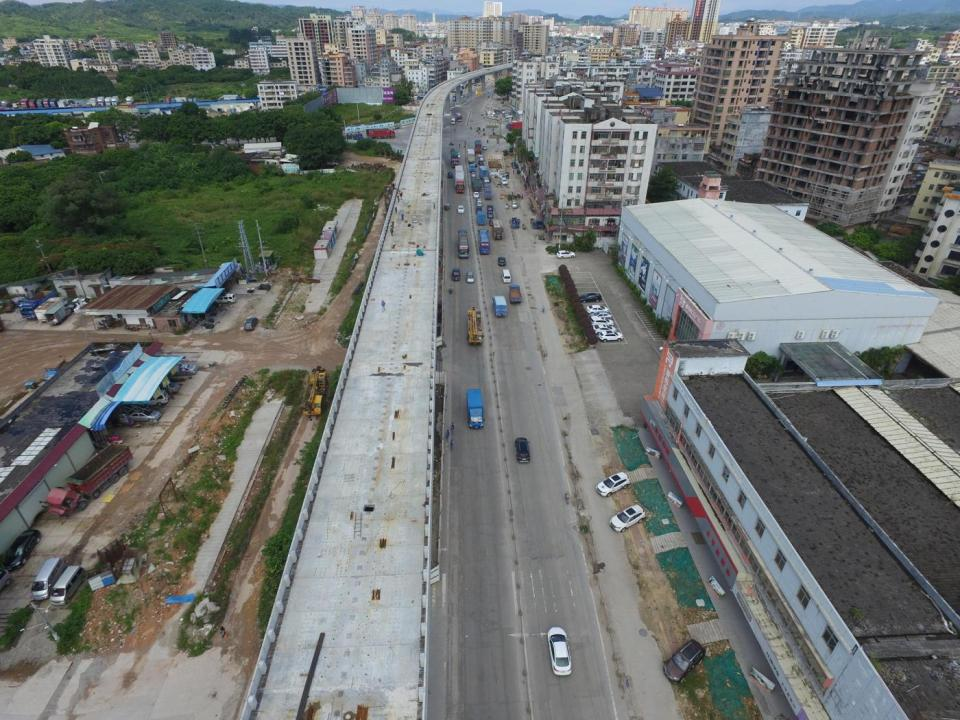bus: (477, 228, 490, 254), (458, 230, 469, 258), (455, 112, 462, 122)
car: (663, 639, 704, 683), (4, 528, 42, 568), (546, 626, 570, 674), (609, 505, 644, 532), (596, 473, 630, 497), (128, 408, 160, 421), (515, 437, 529, 463), (169, 364, 196, 376), (154, 382, 177, 394), (599, 331, 624, 342), (592, 324, 616, 335), (591, 317, 613, 328), (588, 312, 612, 322), (580, 293, 602, 303), (586, 304, 608, 313), (244, 318, 258, 330), (557, 250, 575, 259), (452, 268, 460, 281), (498, 256, 506, 267), (466, 271, 474, 282), (457, 205, 465, 213), (475, 198, 482, 206), (501, 173, 509, 180), (500, 178, 508, 184), (487, 211, 493, 219), (447, 170, 453, 178), (476, 207, 482, 215), (472, 191, 478, 198), (487, 204, 493, 210), (511, 162, 517, 168), (471, 172, 475, 178), (456, 153, 460, 158), (483, 146, 487, 150), (450, 150, 454, 154)
truck: (45, 444, 132, 519), (19, 290, 56, 320), (35, 297, 66, 322), (466, 388, 485, 428), (45, 359, 71, 384), (46, 301, 73, 325), (492, 295, 508, 317), (455, 166, 465, 193), (493, 219, 504, 241), (369, 129, 395, 138), (366, 128, 392, 137), (510, 285, 521, 304), (343, 132, 361, 140), (477, 211, 486, 226), (467, 149, 475, 164), (451, 151, 458, 168), (480, 165, 488, 179), (484, 187, 492, 200), (472, 178, 480, 191), (474, 140, 482, 153), (482, 176, 490, 187), (393, 124, 402, 129)
van: (49, 565, 86, 606), (31, 558, 64, 600), (138, 390, 167, 408), (214, 294, 234, 305), (502, 269, 511, 283), (512, 200, 517, 208), (451, 117, 456, 124)
